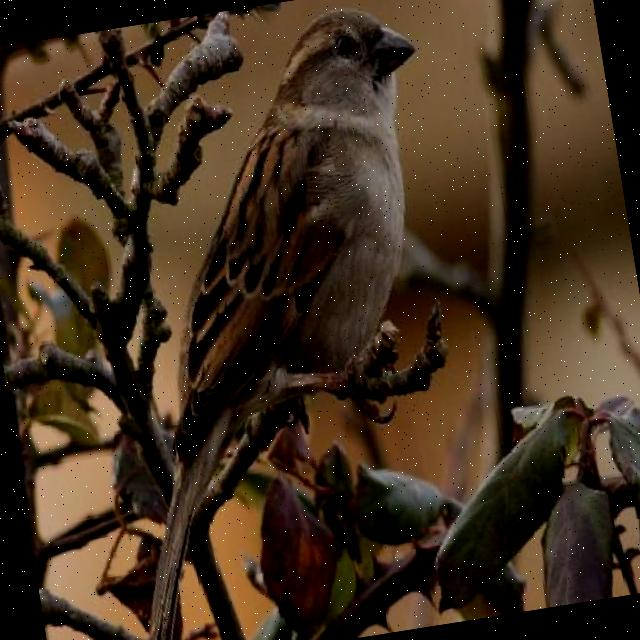sparrow: (134, 0, 467, 415)
